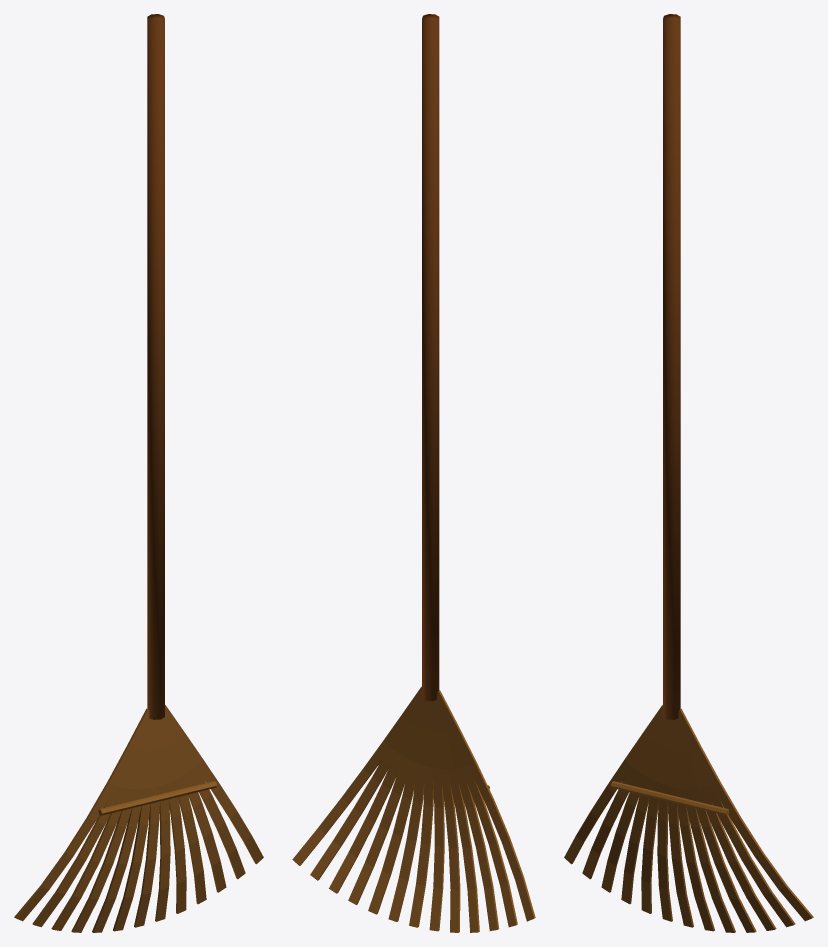
Rendered from rake.glb.
The picture shows the model from 3 angles, left to right: view 1: azimuth 30°, elevation 25°; view 2: azimuth 150°, elevation 25°; view 3: azimuth 330°, elevation 25°; orthographic projection. The views are drawn at different scales.
Parts seen in each view (by area): view 1: Rake; view 2: Rake; view 3: Rake.
Boxes of the visible parts, box(x1,y1,x2,y2) form: Rake: box(14, 14, 263, 932); Rake: box(292, 14, 535, 932); Rake: box(564, 14, 813, 932).
Size of the model in its own units: 0.5028 by 1.78 by 0.0785.
